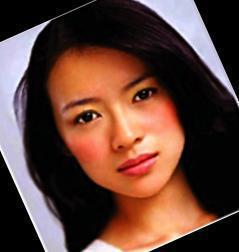Drunk: (59, 53, 175, 196)
